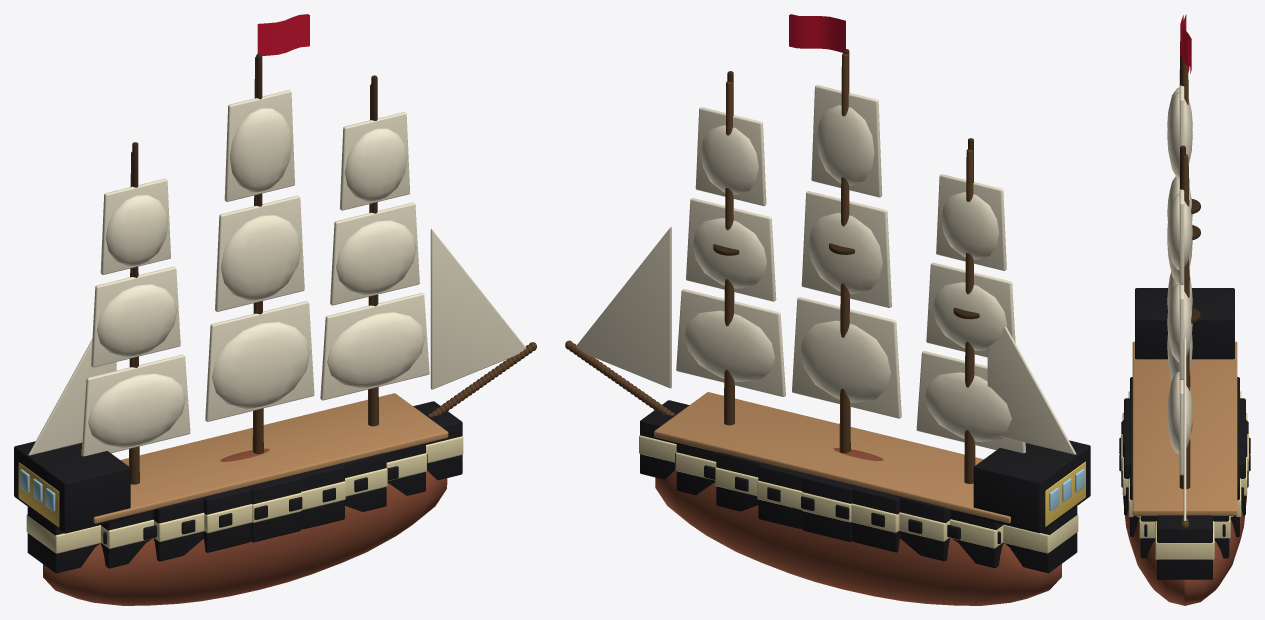
Rendered from navio_fragata.glb.
3 views of the same model, side by side, from view 1: azimuth 30°, elevation 25°; view 2: azimuth 150°, elevation 25°; view 3: azimuth 270°, elevation 25° (orthographic). The views are drawn at different scales.
Parts seen in each view (by area): view 1: navio_fragata; view 2: navio_fragata; view 3: navio_fragata.
Boxes of the visible parts, box(x1,y1,x2,y2) form: navio_fragata: box(14, 14, 536, 605); navio_fragata: box(565, 14, 1090, 605); navio_fragata: box(1119, 14, 1250, 605).
Size of the model in its own units: 5.73 by 6.03 by 1.32.
